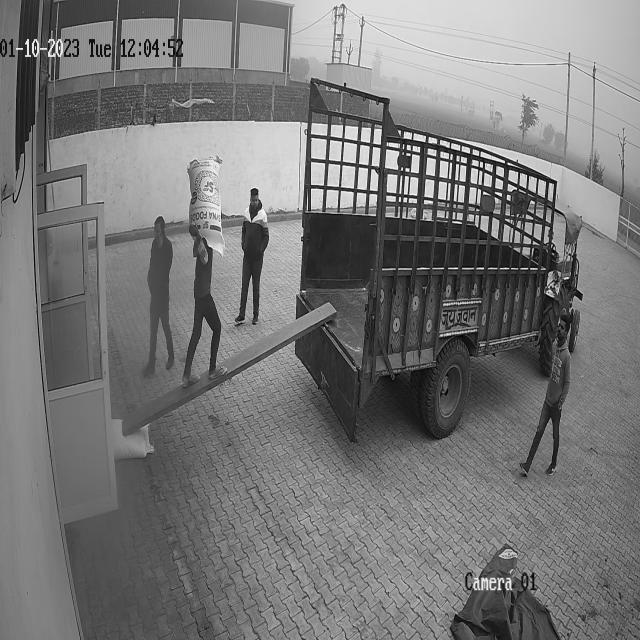sack: (187, 156, 224, 255), (111, 418, 153, 458)
